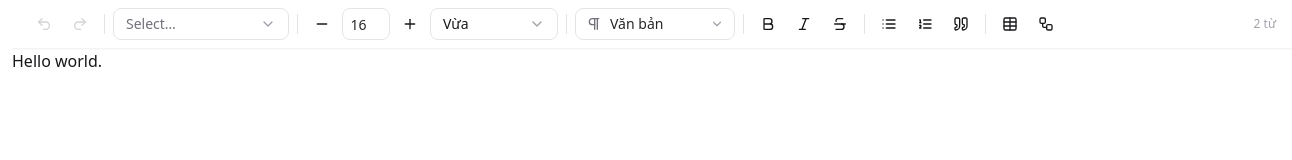
Scenario: EditorToolbar › steps the font size
Expected: the number field named "Cỡ chữ" holds "16", [342,8,390,40]
Click the button named "Tăng cỡ chữ" at [410, 24], box [394,8,426,40]
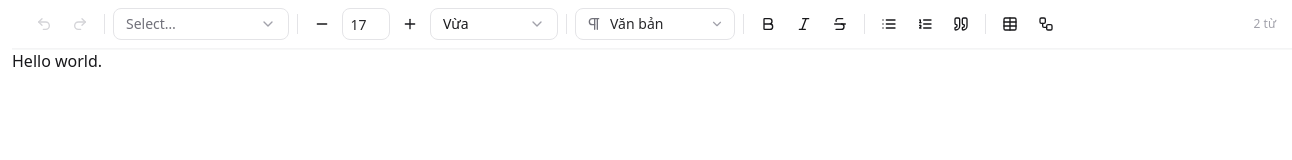
Result: the number field named "Cỡ chữ" holds "17" at [342,8,390,40]
